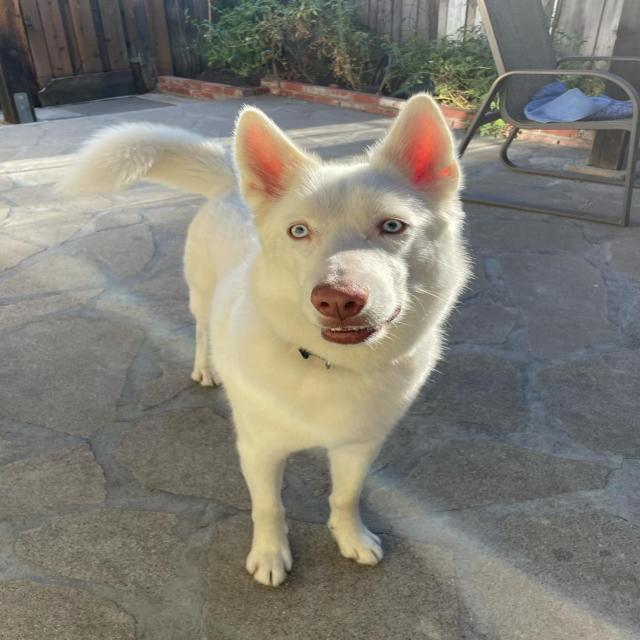siberian_husky_dog: (215, 86, 485, 373)
